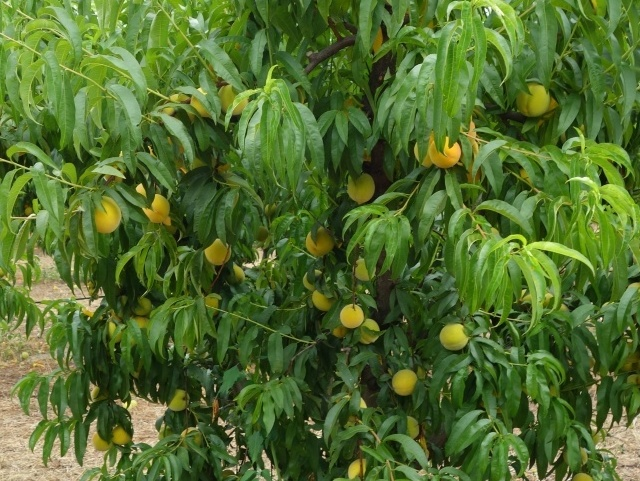peach: (511, 78, 552, 121), (85, 192, 125, 233), (136, 191, 177, 226), (182, 82, 217, 123), (197, 236, 237, 271), (215, 80, 249, 121), (342, 169, 378, 206), (425, 135, 463, 169), (302, 224, 338, 257), (435, 320, 471, 353), (410, 134, 439, 173), (390, 366, 419, 398), (310, 281, 338, 312), (338, 300, 365, 330), (104, 425, 137, 449), (163, 387, 191, 415), (356, 318, 383, 347), (126, 309, 156, 335), (88, 431, 118, 457), (299, 268, 326, 296), (351, 256, 377, 284), (204, 288, 230, 316), (345, 456, 371, 481), (130, 295, 154, 321), (401, 414, 423, 441), (177, 424, 201, 447)
